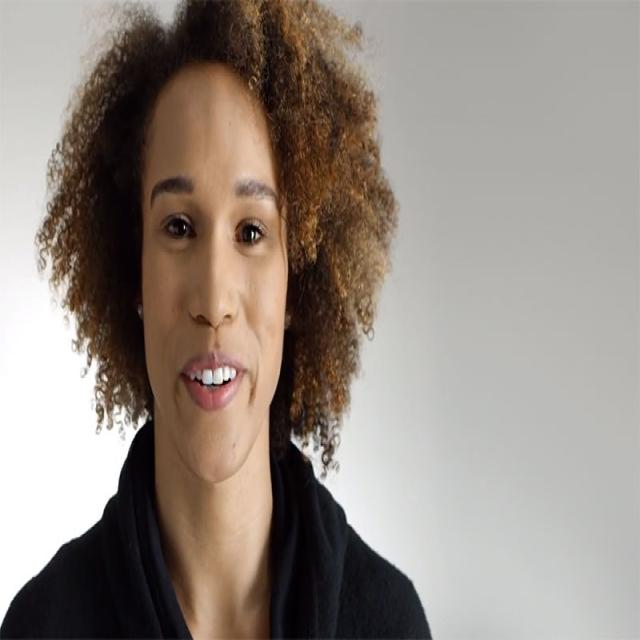human: (25, 5, 434, 640)
